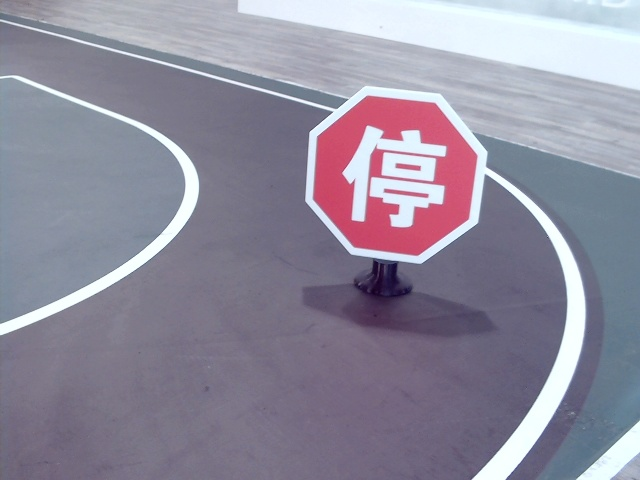stop: (345, 126, 447, 228)
